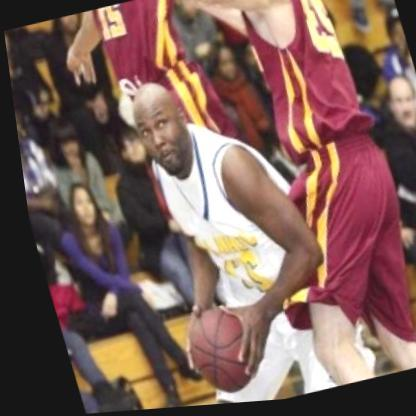basketball: (165, 292, 262, 404)
